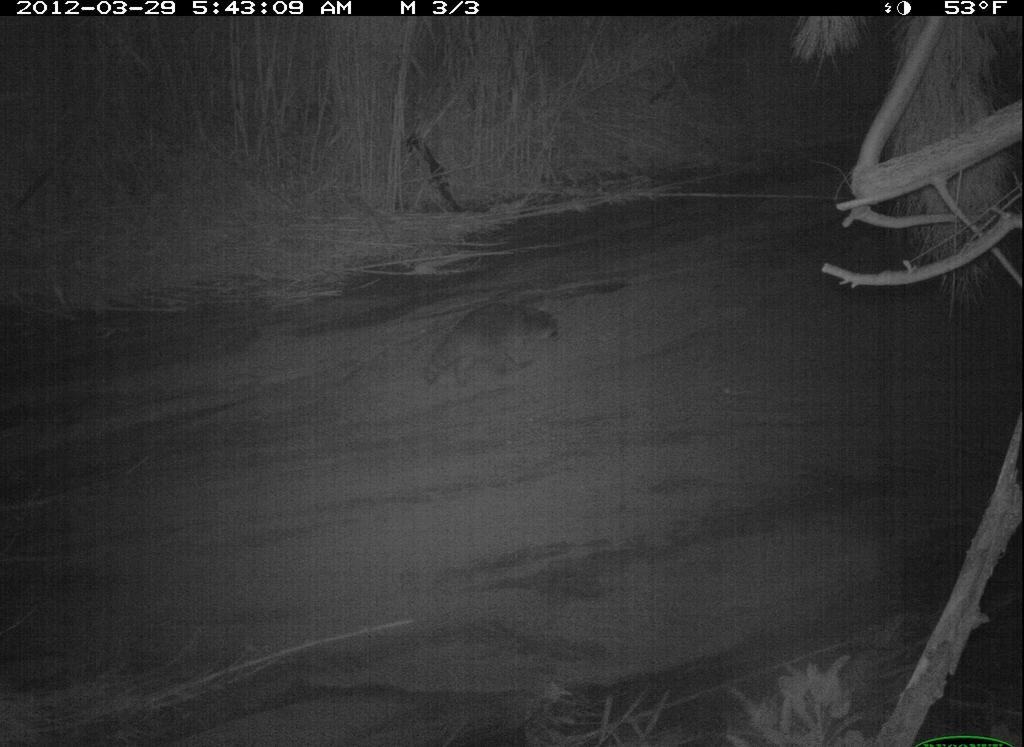raccoon: (417, 293, 566, 393)
